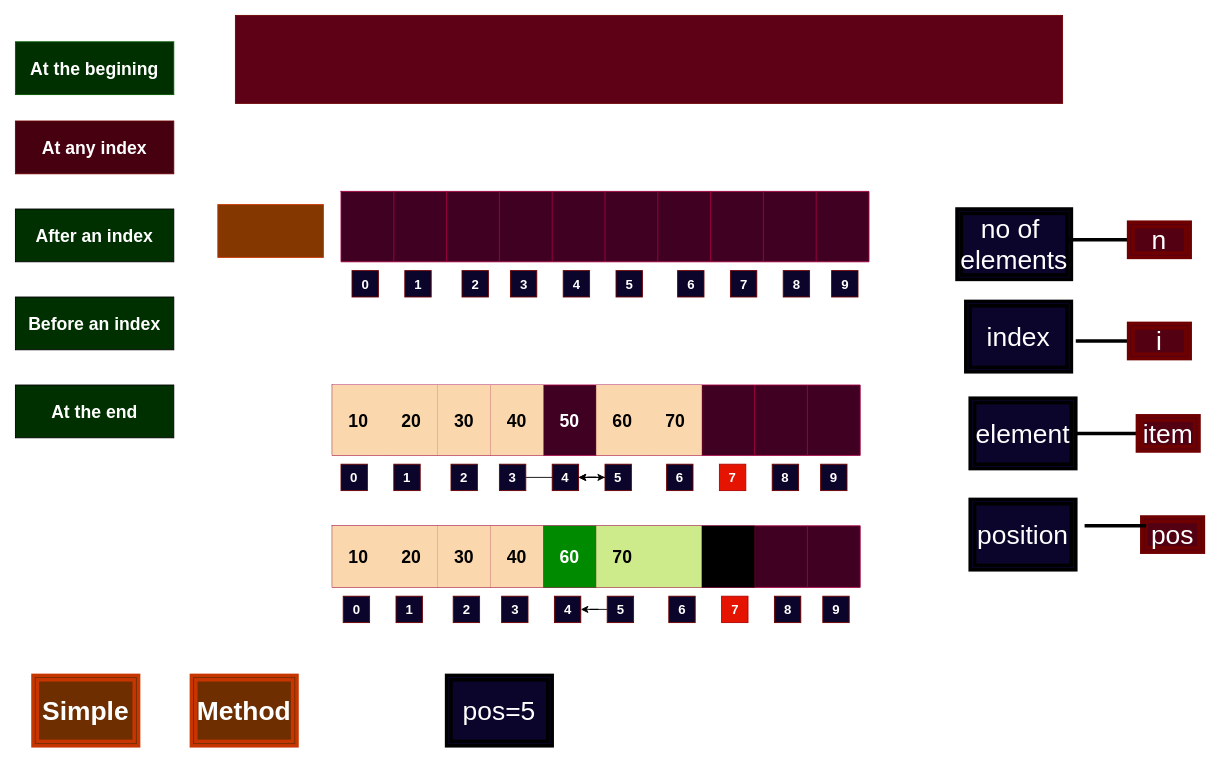
Image size: 1221x763. Some labels were removed from this diagram. The box of each missing label's shape, as (x1, y1, x2, y2) in pixels:
arr[10]: (217, 204, 323, 257)
Data Structure and Algorithm | Array Deletion: (235, 15, 1063, 103)
